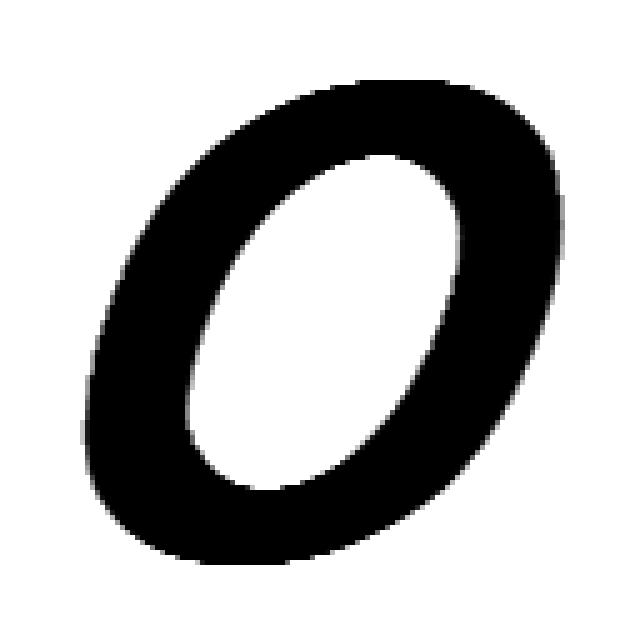O: (80, 80, 565, 570)
